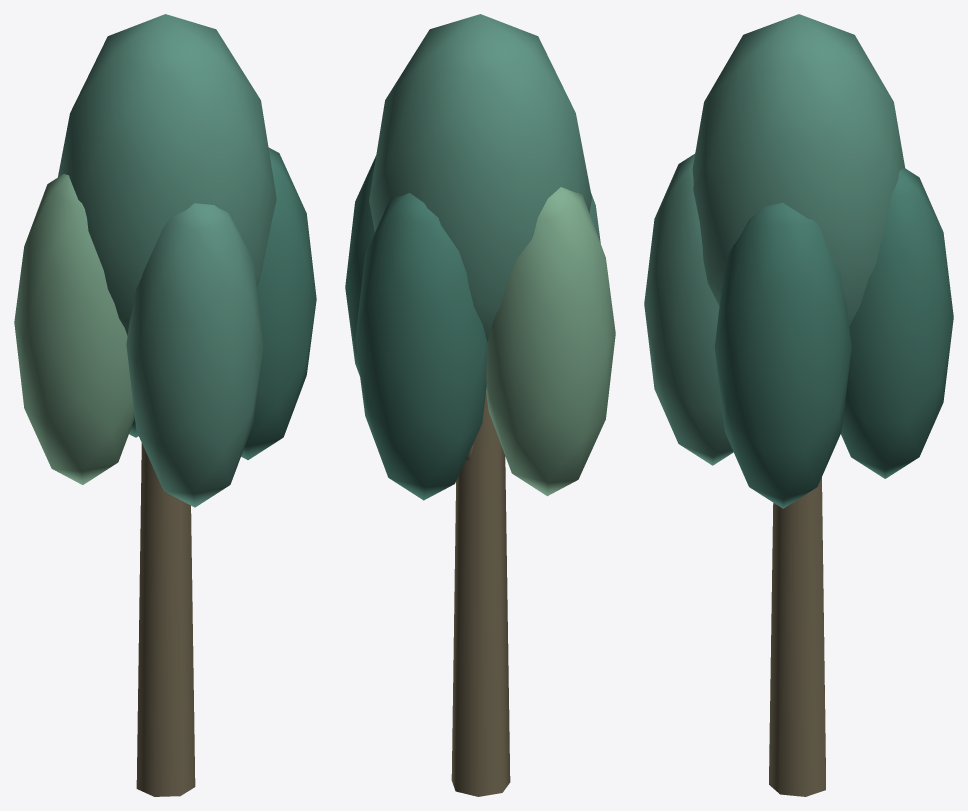
The model's file is tree-cypress.glb.
The picture shows the model from 3 angles, left to right: view 1: azimuth 30°, elevation 25°; view 2: azimuth 150°, elevation 25°; view 3: azimuth 270°, elevation 25°; orthographic projection.
Parts seen in each view (by area): view 1: crown-5, crown-7, crown-8, root-stem, crown-6; view 2: crown-5, crown-9, crown-8, root-stem, crown-6; view 3: crown-5, crown-6, crown-9, crown-7, root-stem.
Part boxes in pixels (x1,y1,x2,y2): crown-5: [58, 14, 276, 335]; crown-7: [126, 203, 263, 507]; crown-8: [14, 174, 134, 484]; root-stem: [136, 443, 195, 796]; crown-6: [241, 147, 316, 459]; crown-5: [369, 14, 591, 342]; crown-9: [355, 193, 487, 500]; crown-8: [486, 187, 615, 496]; root-stem: [451, 392, 510, 796]; crown-6: [345, 155, 376, 375]; crown-5: [692, 14, 904, 326]; crown-6: [714, 203, 851, 508]; crown-9: [841, 168, 953, 478]; crown-7: [644, 153, 733, 465]; root-stem: [769, 477, 825, 796].
Bounding box in the file's own units: 3.5 × 9.6 × 3.5.
